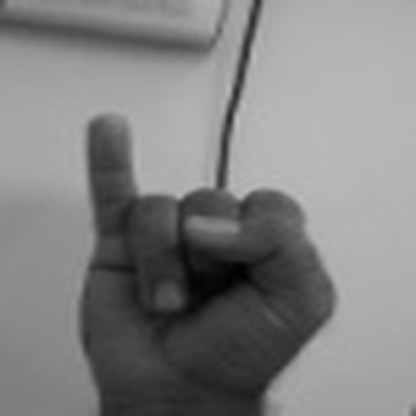i: (50, 101, 349, 403)
